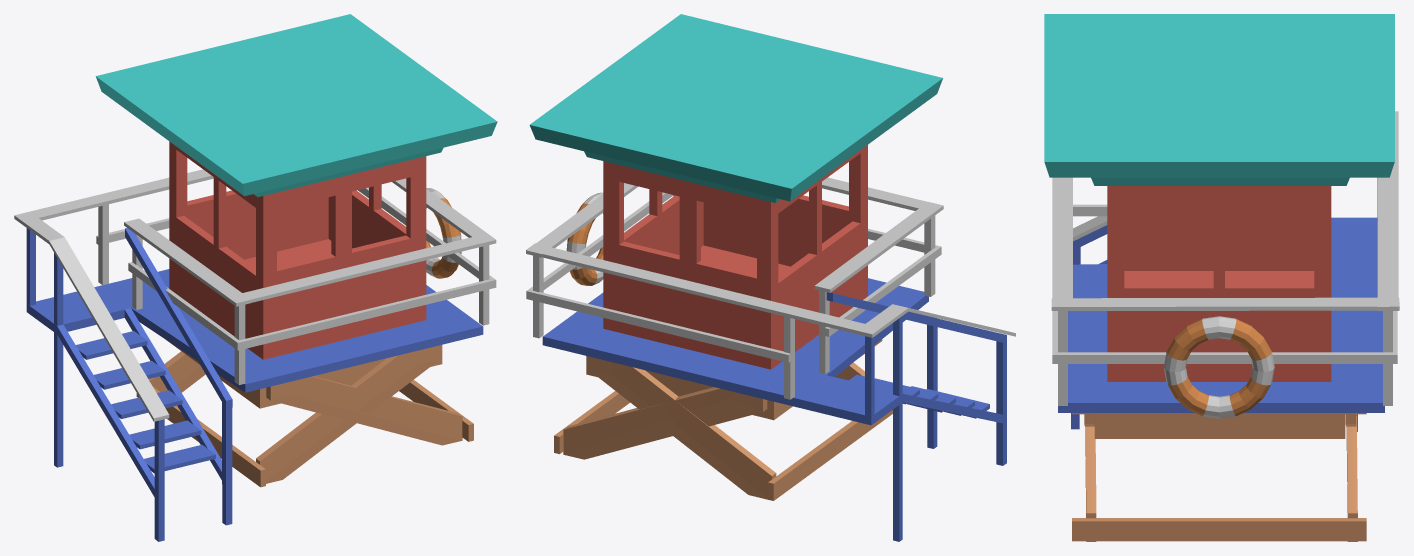
Rendered from Torre_socorrista.fbx.
3 views of the same model, side by side, from view 1: azimuth 30°, elevation 25°; view 2: azimuth 150°, elevation 25°; view 3: azimuth 270°, elevation 25° (orthographic). The views are drawn at different scales.
Visible parts, largest first — view 1: CABIN; view 2: CABIN; view 3: CABIN.
Boxes of the visible parts, x1,y1,x2,y2 form: CABIN: (14, 14, 497, 541); CABIN: (526, 14, 1015, 541); CABIN: (1044, 14, 1399, 541).
Size of the model in its own units: 2.45 by 2.31 by 1.79.
